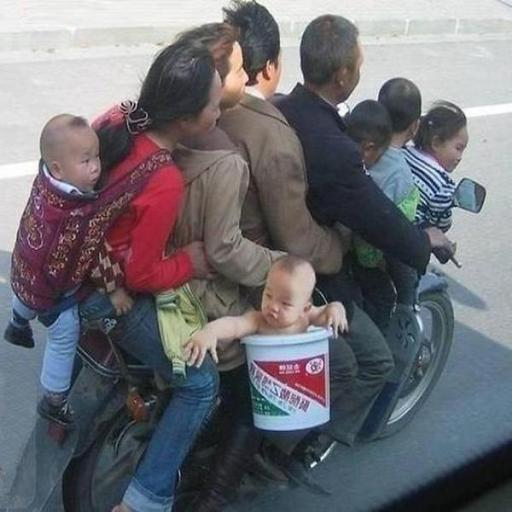no helmet: (298, 7, 378, 142)
triple riding: (11, 1, 495, 512)
